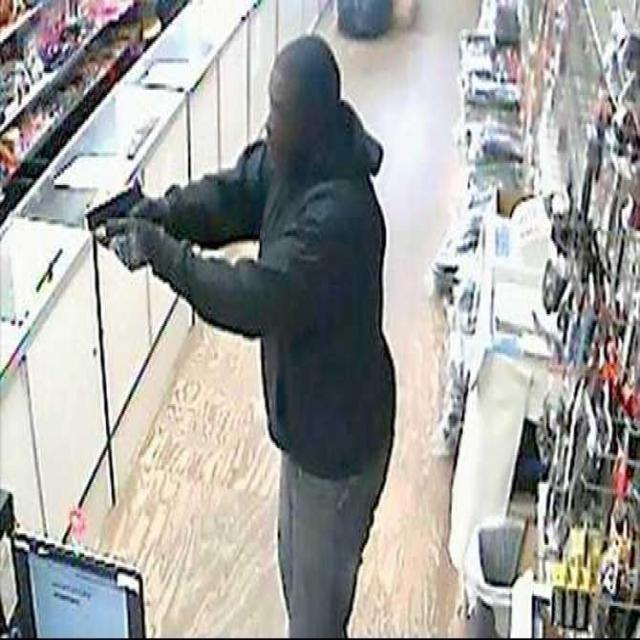gun: (86, 188, 150, 238)
